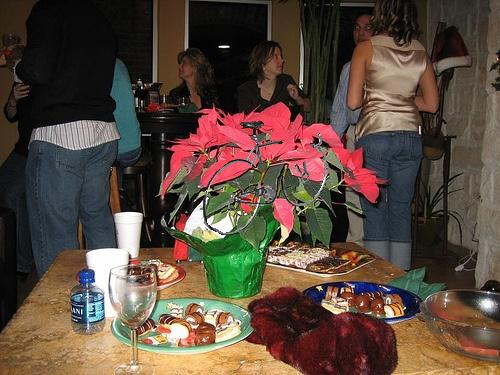tampered: (203, 122, 326, 235)
